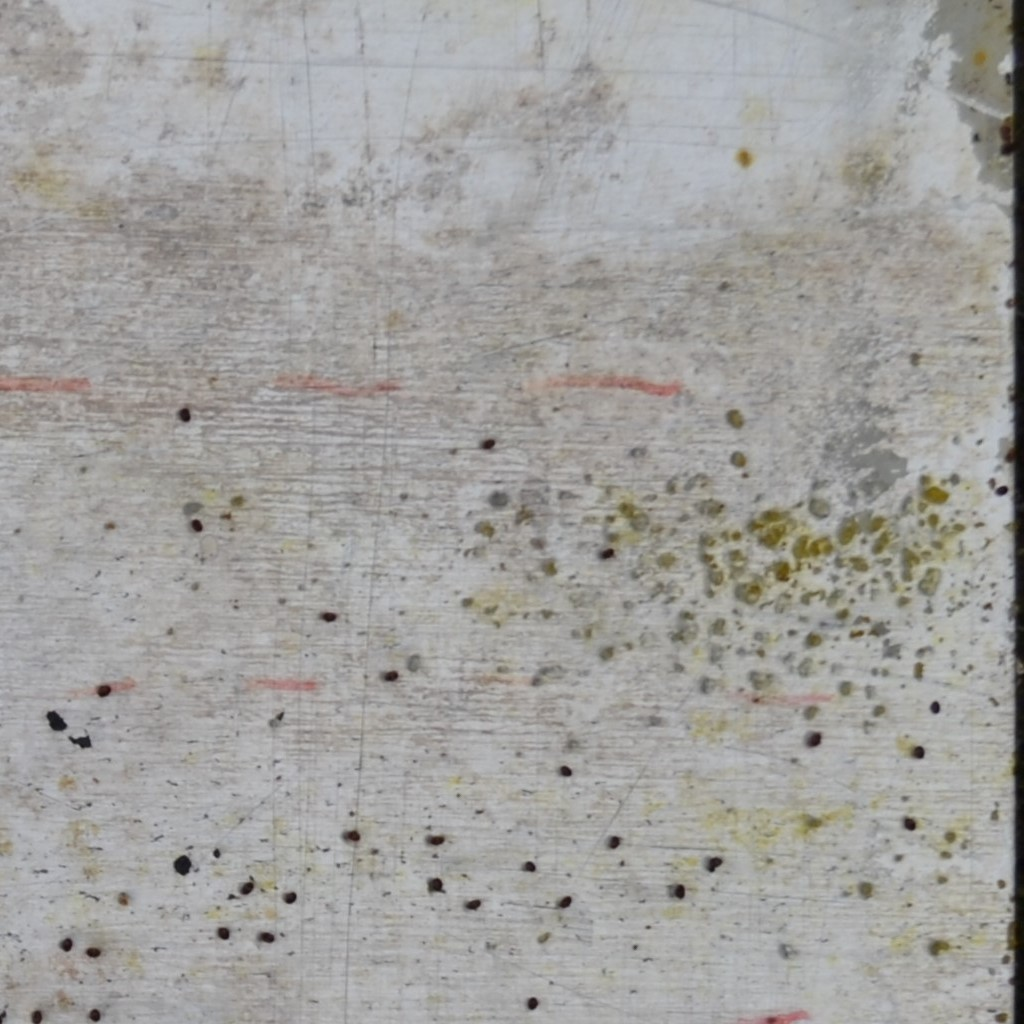varroa: (802, 726, 822, 755), (478, 430, 497, 460), (319, 606, 340, 631), (427, 875, 446, 898), (596, 543, 617, 562), (237, 877, 255, 899), (708, 852, 724, 876), (426, 830, 447, 848), (381, 667, 400, 686), (281, 886, 299, 905), (215, 924, 231, 945), (521, 854, 537, 875), (909, 742, 927, 760), (606, 832, 623, 851), (177, 404, 191, 426), (58, 936, 76, 953), (97, 682, 113, 701), (465, 892, 481, 911), (27, 1005, 43, 1023), (526, 993, 541, 1012), (87, 1004, 103, 1021), (84, 944, 101, 960), (903, 812, 916, 832), (558, 763, 574, 779), (927, 697, 942, 714), (173, 850, 191, 864), (189, 519, 204, 535), (258, 930, 276, 943), (674, 880, 687, 898), (173, 863, 191, 875)
